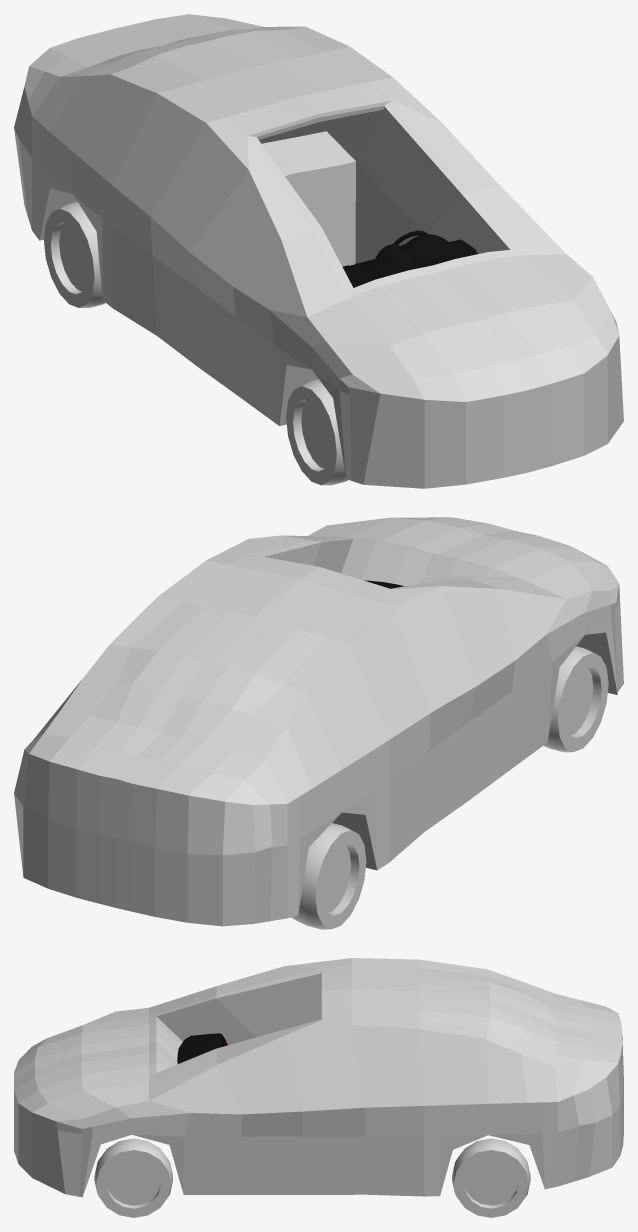
File: car v1.1.fbx
3 views of the same model, one above another, from view 1: azimuth 30°, elevation 25°; view 2: azimuth 150°, elevation 25°; view 3: azimuth 270°, elevation 25° (orthographic). The views are drawn at different scales.
Parts seen in each view (by area): view 1: Car Body, B L wheel, F L wheel, VehicleModel1.001, VehicleModel1.002; view 2: Car Body, B L wheel, F L wheel; view 3: Car Body, B R wheel, F R wheel, VehicleModel1.001.
Boxes of the visible parts, x1,y1,x2,y2 form: Car Body: [14, 14, 623, 488]; B L wheel: [44, 202, 105, 307]; F L wheel: [286, 379, 348, 485]; VehicleModel1.001: [342, 239, 477, 287]; VehicleModel1.002: [375, 234, 459, 264]; Car Body: [14, 517, 623, 926]; B L wheel: [291, 823, 366, 929]; F L wheel: [543, 646, 608, 752]; Car Body: [14, 958, 623, 1197]; B R wheel: [452, 1138, 530, 1217]; F R wheel: [94, 1138, 172, 1217]; VehicleModel1.001: [177, 1033, 227, 1063].
Bounding box in the file's own units: 194 × 484 × 159.
